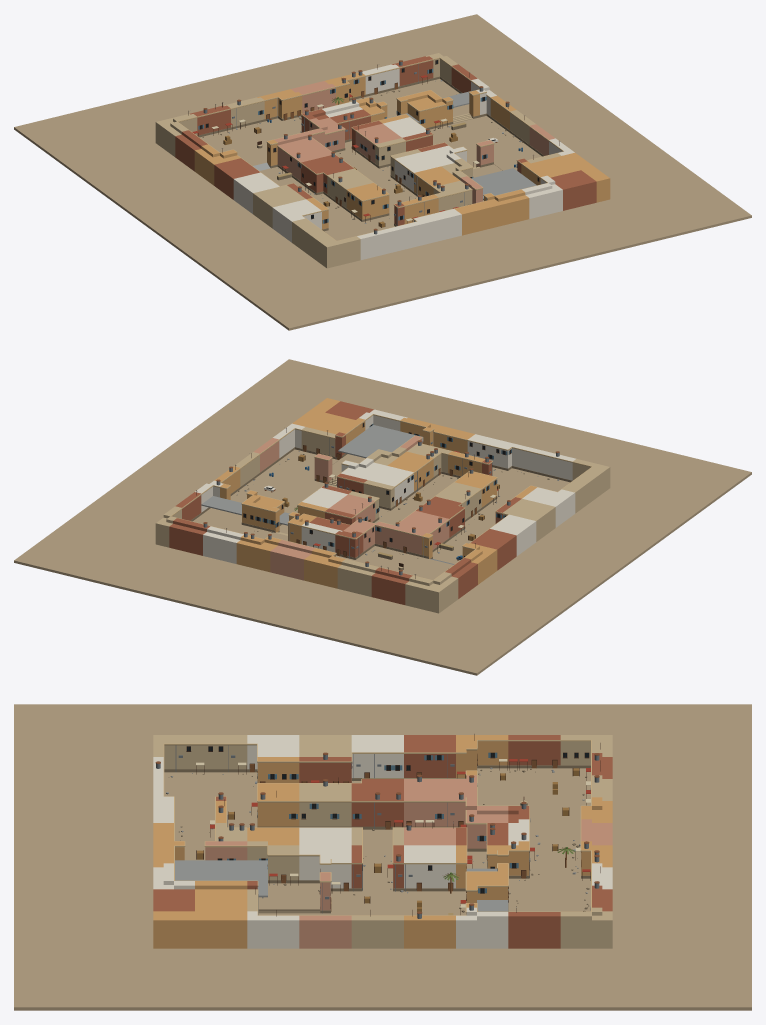
The model's file is qishloq.glb.
3 renders of one model, top to bottom at view 1: azimuth 30°, elevation 25°; view 2: azimuth 150°, elevation 25°; view 3: azimuth 270°, elevation 25°, orthographic. The views are drawn at different scales.
Visible parts, largest first — view 1: world_stone_floor, world_plaster_ochre, world_plaster_white, world_stone_wall, world_brick, world_plaster_rose, decor_sand_wall, decor_stone_base, world_concrete, decor_wood_dark, decor_metal, decor_window_dark; view 2: world_stone_floor, world_plaster_ochre, world_plaster_white, world_stone_wall, world_brick, world_plaster_rose, decor_sand_wall, world_concrete, decor_stone_base, decor_wood_dark, decor_metal; view 3: world_stone_floor, world_plaster_ochre, world_plaster_white, world_stone_wall, world_brick, world_plaster_rose, decor_sand_wall, decor_stone_base, world_concrete, decor_wood_dark, decor_metal, decor_wood (+3 smaller).
Boxes of the visible parts, x1,y1,x2,y2 form: world_stone_floor: (14, 14, 751, 330); world_plaster_ochre: (194, 72, 610, 235); world_plaster_white: (233, 64, 574, 259); world_stone_wall: (155, 53, 561, 268); world_brick: (175, 56, 596, 225); world_plaster_rose: (274, 81, 555, 203); decor_sand_wall: (177, 57, 563, 240); decor_stone_base: (187, 59, 544, 231); world_concrete: (253, 91, 536, 199); decor_wood_dark: (188, 60, 559, 227); decor_metal: (203, 62, 560, 234); decor_window_dark: (200, 60, 538, 222); world_stone_floor: (14, 359, 751, 675); world_plaster_ochre: (214, 398, 536, 588); world_plaster_white: (195, 409, 575, 563); world_stone_wall: (155, 427, 610, 613); world_brick: (169, 401, 521, 604); world_plaster_rose: (253, 435, 449, 580); decor_sand_wall: (170, 414, 592, 580); world_concrete: (201, 425, 454, 564); decor_stone_base: (190, 424, 582, 559); decor_wood_dark: (196, 422, 511, 578); decor_metal: (196, 430, 559, 575); world_stone_floor: (14, 704, 751, 1010); world_plaster_ochre: (153, 735, 612, 948); world_plaster_white: (153, 735, 612, 948); world_stone_wall: (153, 735, 612, 948); world_brick: (153, 735, 612, 948); world_plaster_rose: (205, 775, 612, 948); decor_sand_wall: (163, 740, 591, 915); decor_stone_base: (164, 745, 590, 914); world_concrete: (175, 860, 508, 911); decor_wood_dark: (186, 734, 600, 916); decor_metal: (156, 745, 599, 918); decor_wood: (250, 760, 573, 911).
Size of the model in its own units: 206 by 13.4 by 212.
